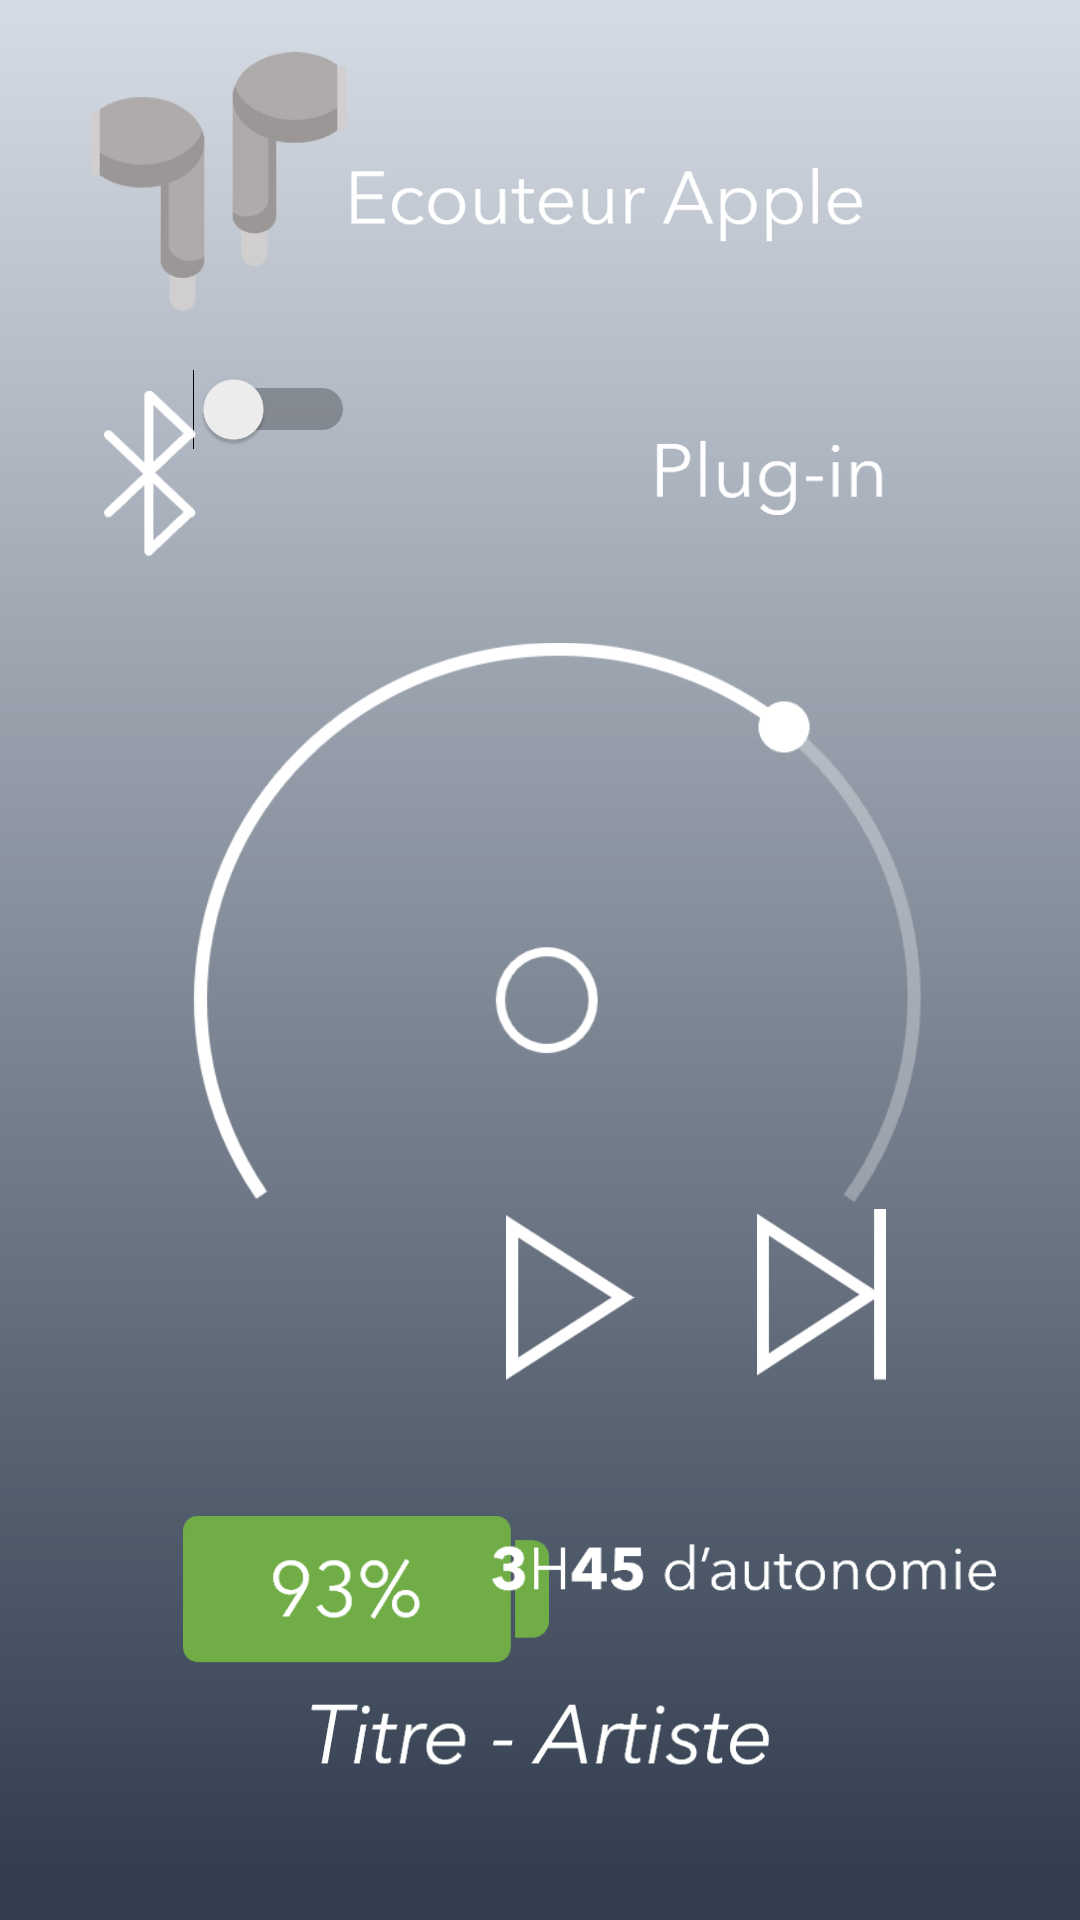

Point at icon controls on the screen. Image size 1080 × 1920, points as (x=x, y=y).
nextmusic: (x=821, y=1285)
playmusic: (x=570, y=1285)
